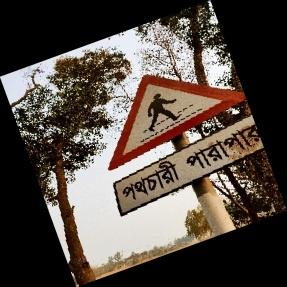Pedestrian-crossing: (107, 74, 263, 220)
